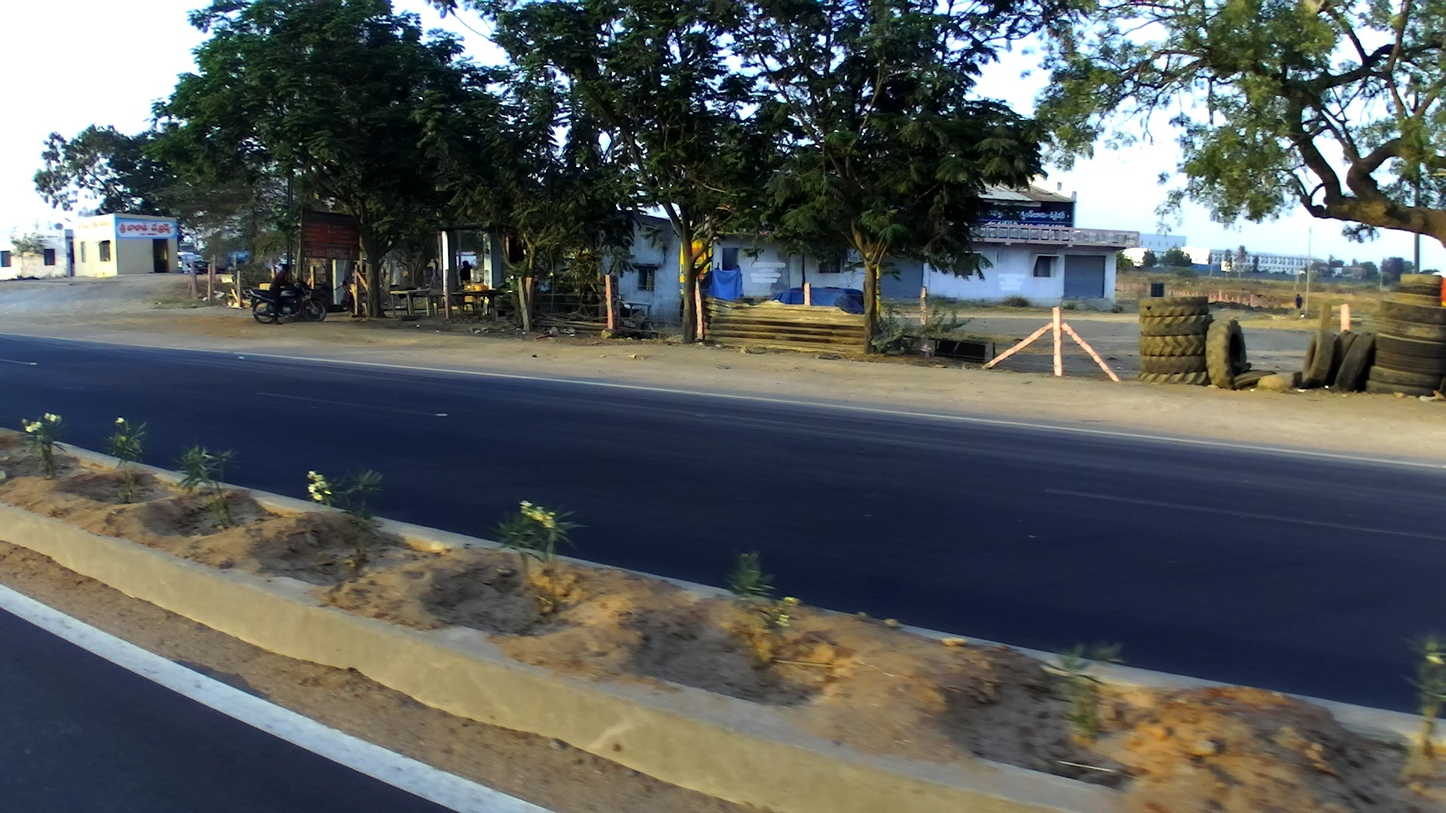motorcycle: (243, 273, 328, 326), (310, 273, 362, 315)
person: (458, 257, 477, 286)
rider: (267, 263, 303, 327)
